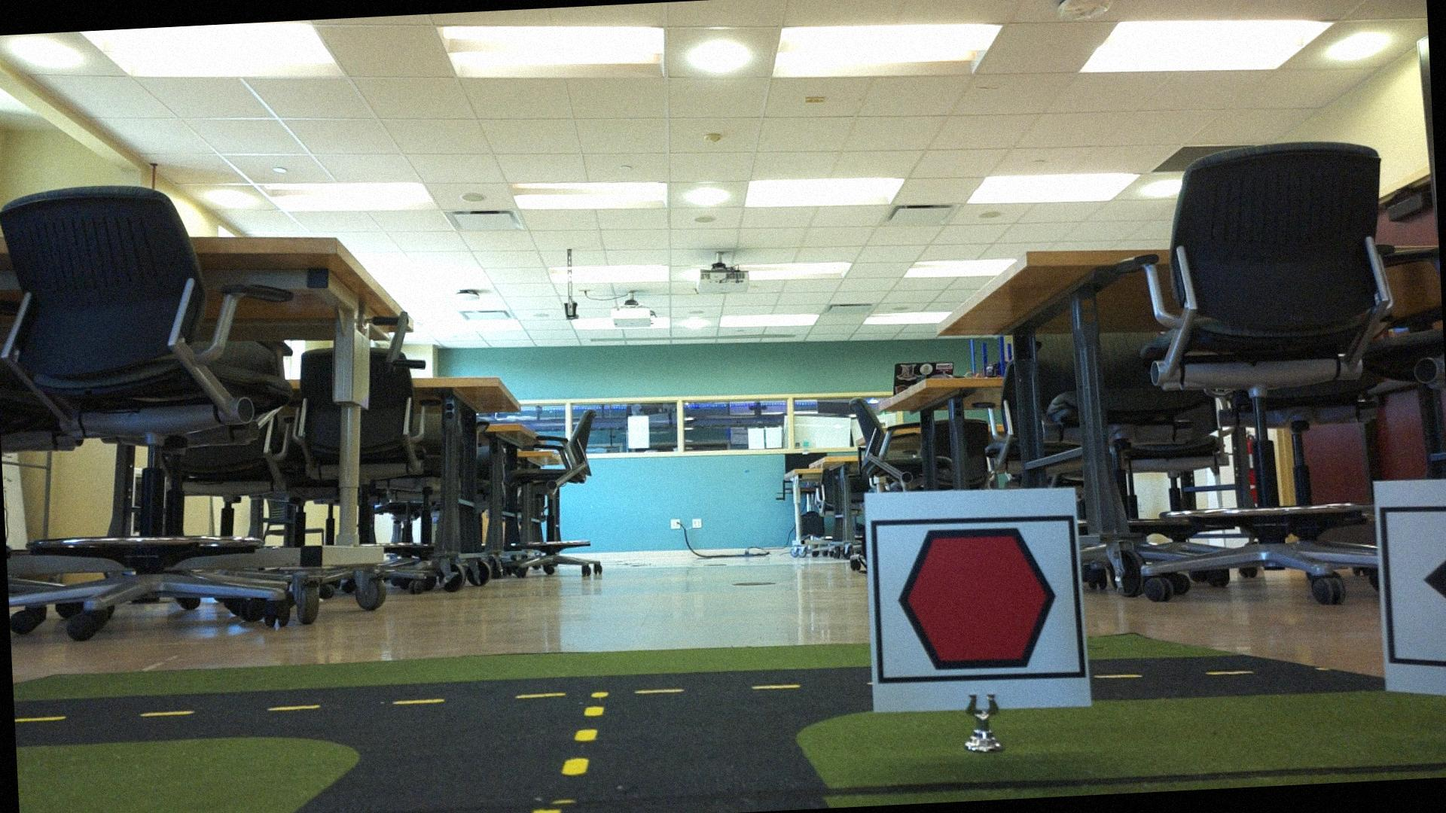stop: (880, 516, 1076, 684)
yellowline: (557, 687, 609, 778)
